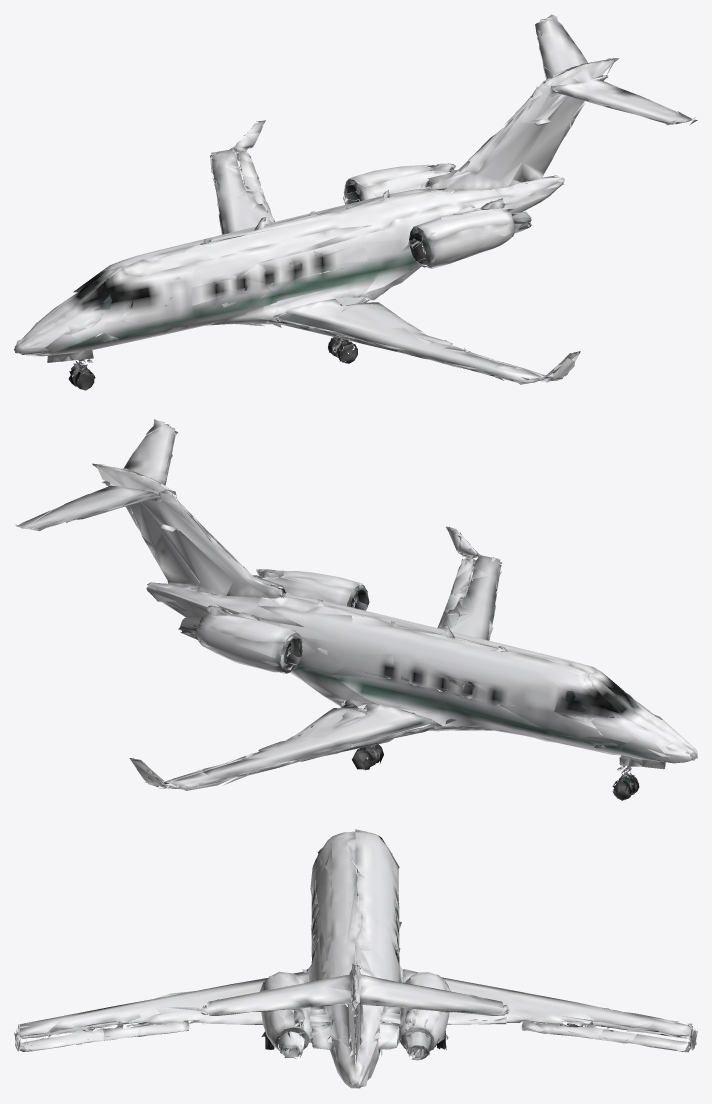
Rendered from jet.glb.
3 renders of one model, top to bottom at view 1: azimuth 30°, elevation 25°; view 2: azimuth 150°, elevation 25°; view 3: azimuth 270°, elevation 25°, orthographic. The views are drawn at different scales.
Parts seen in each view (by area): view 1: LO.001; view 2: LO.001; view 3: LO.001.
Boxes of the visible parts, <box> form: LO.001: <box>14,14,697,390</box>; LO.001: <box>15,419,697,800</box>; LO.001: <box>14,829,697,1088</box>.
Size of the model in its own units: 1.9 by 0.6061 by 1.7.
1 material, 1 textured.
